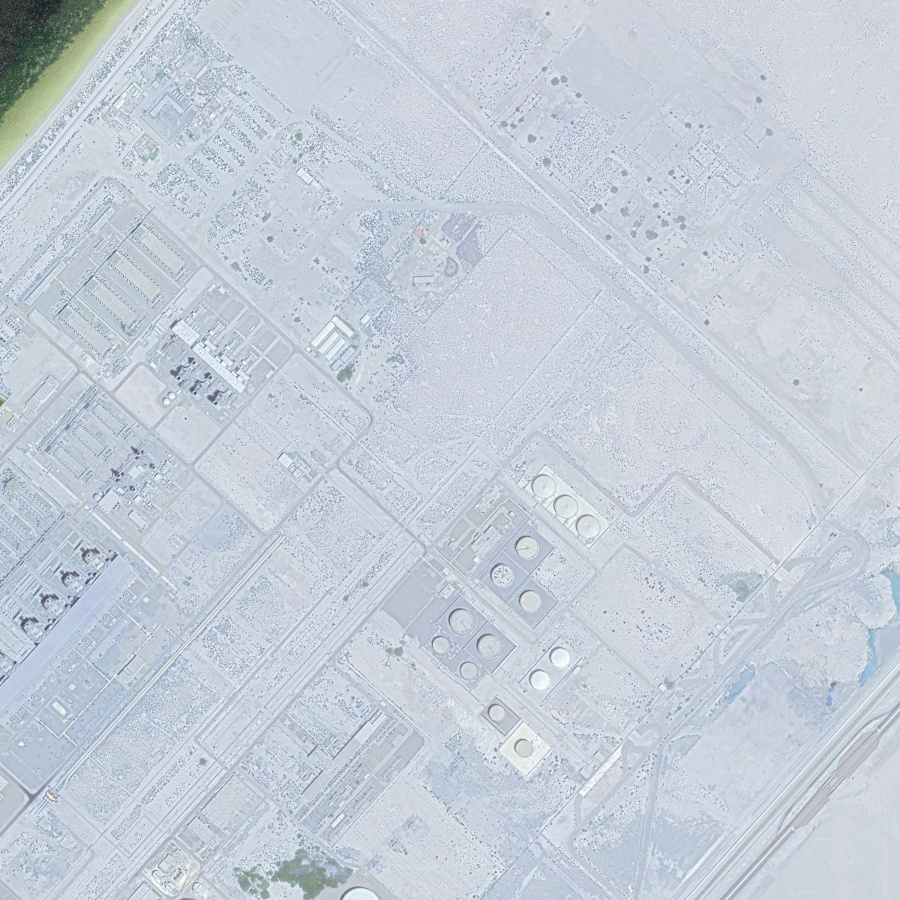PowerPlant: (420, 468, 632, 765)
